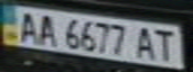6: (60, 16, 81, 51), (78, 18, 96, 53)
7: (109, 21, 130, 56), (93, 19, 112, 54)
A: (12, 9, 42, 44), (133, 25, 160, 61), (33, 12, 60, 47)
T: (151, 27, 181, 62)
